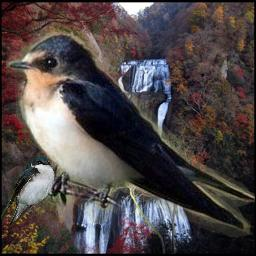Swallow: (6, 29, 255, 238), (1, 153, 57, 227)
